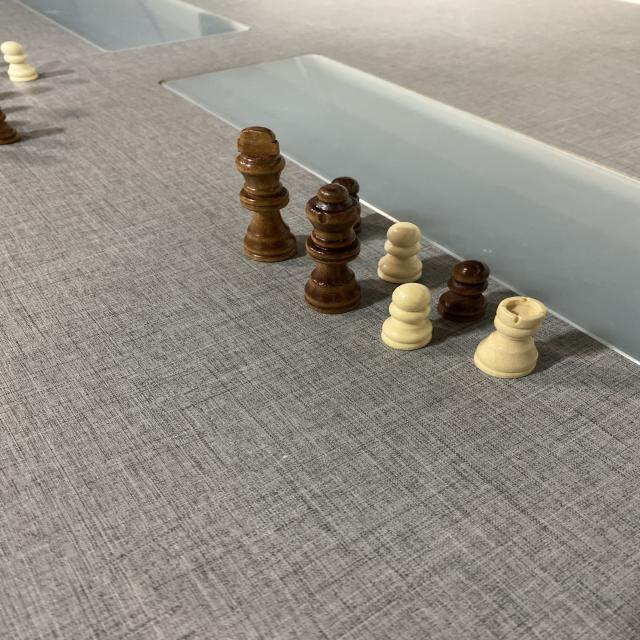Black-King: (239, 127, 292, 265)
Black-Pawn: (439, 260, 492, 317), (334, 171, 360, 201)
Black-Queen: (300, 185, 363, 311)
White-Pawn: (381, 284, 433, 348), (378, 222, 422, 282), (0, 39, 39, 81)
White-Rook: (473, 294, 549, 378)
